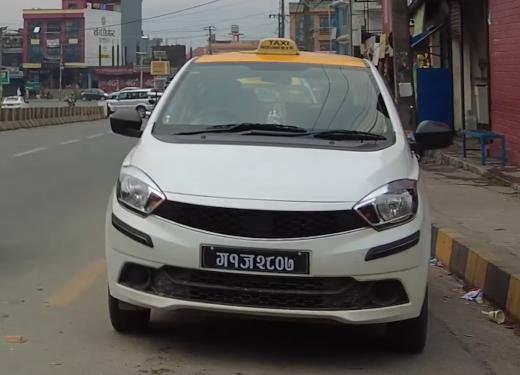SUV: (103, 86, 162, 119)
car: (0, 94, 29, 111)
taxi: (90, 25, 454, 367)
